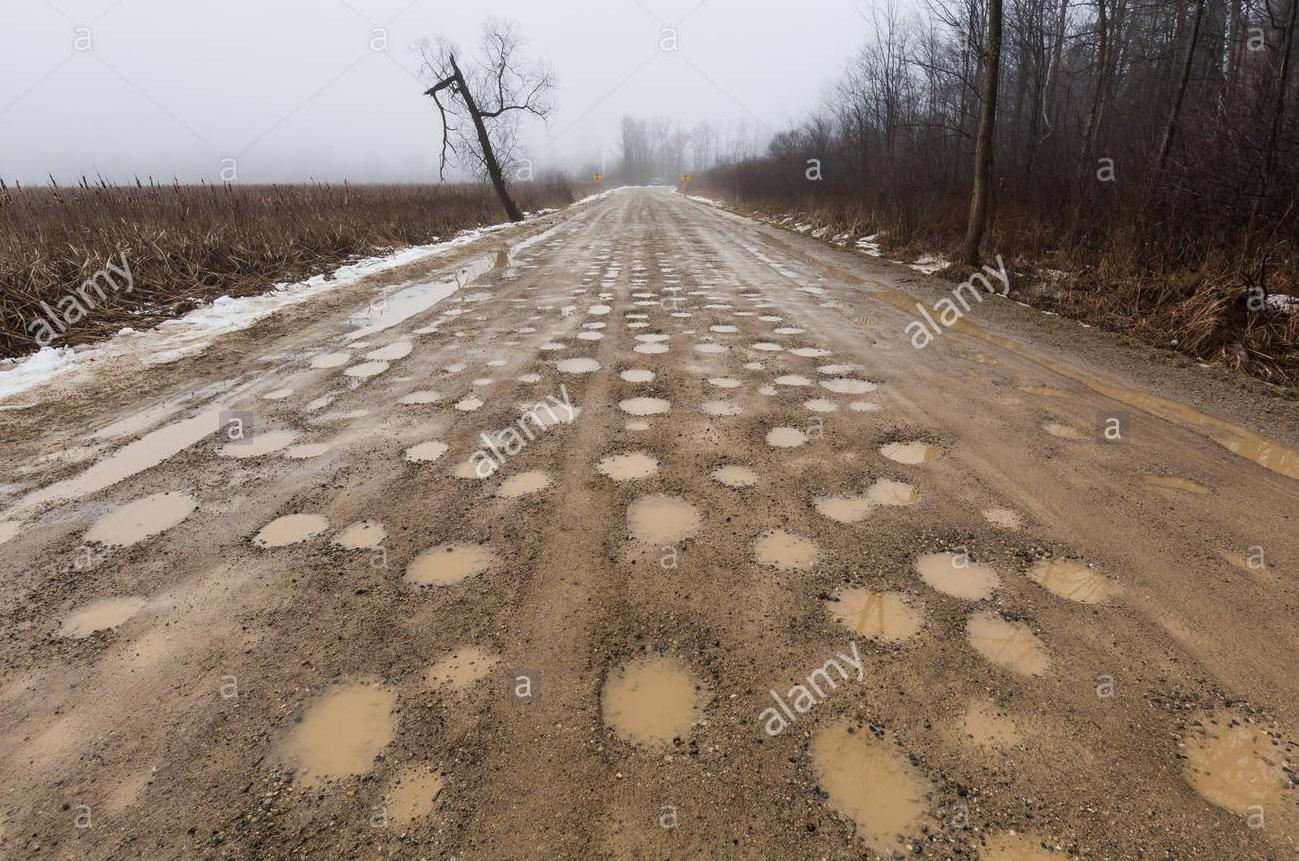pothole: (797, 700, 937, 861), (586, 624, 736, 765), (251, 666, 399, 789), (1159, 696, 1296, 826), (806, 567, 938, 646), (1017, 542, 1125, 618), (80, 489, 202, 554), (389, 530, 500, 596), (955, 686, 1043, 769), (961, 610, 1057, 684), (372, 757, 453, 836), (48, 583, 143, 647), (810, 470, 924, 521), (614, 489, 706, 552), (971, 817, 1084, 861), (217, 419, 328, 462), (423, 639, 506, 694), (744, 517, 825, 572), (243, 506, 332, 554), (321, 514, 394, 562), (873, 426, 952, 469), (586, 442, 669, 479), (972, 496, 1036, 534), (494, 465, 551, 502), (516, 397, 583, 427), (1146, 470, 1210, 501), (814, 370, 882, 397), (710, 456, 758, 493), (1039, 416, 1096, 446), (446, 452, 501, 482), (762, 422, 811, 454), (396, 438, 450, 465), (341, 359, 395, 384), (615, 394, 673, 417), (553, 354, 602, 376), (306, 349, 357, 369), (363, 341, 416, 360), (616, 362, 661, 384), (700, 399, 746, 419), (399, 387, 444, 407), (705, 371, 750, 390), (634, 331, 668, 356), (787, 343, 833, 361), (257, 384, 294, 406), (805, 396, 844, 415), (811, 362, 863, 376), (450, 393, 482, 415), (749, 338, 795, 353), (621, 416, 657, 435), (472, 430, 511, 447), (770, 373, 813, 388), (693, 340, 731, 354), (706, 323, 744, 336), (851, 400, 886, 414), (516, 370, 545, 386), (483, 355, 512, 370), (757, 382, 782, 399), (753, 312, 785, 324), (413, 323, 442, 336), (470, 375, 498, 388), (445, 362, 472, 375), (698, 301, 737, 310), (576, 330, 605, 342), (579, 319, 610, 330), (451, 328, 482, 339), (537, 342, 566, 352), (667, 310, 695, 320), (629, 291, 659, 300), (743, 360, 767, 371), (587, 305, 612, 315), (680, 326, 703, 335), (632, 299, 660, 306), (624, 313, 651, 320), (662, 285, 688, 292), (511, 327, 537, 334), (627, 321, 651, 328), (598, 292, 615, 301), (630, 279, 647, 288), (688, 290, 712, 296), (599, 279, 615, 288), (667, 296, 689, 302), (509, 297, 529, 303), (526, 314, 542, 321), (571, 288, 586, 295), (514, 303, 531, 309), (662, 279, 681, 284), (581, 276, 593, 281)
